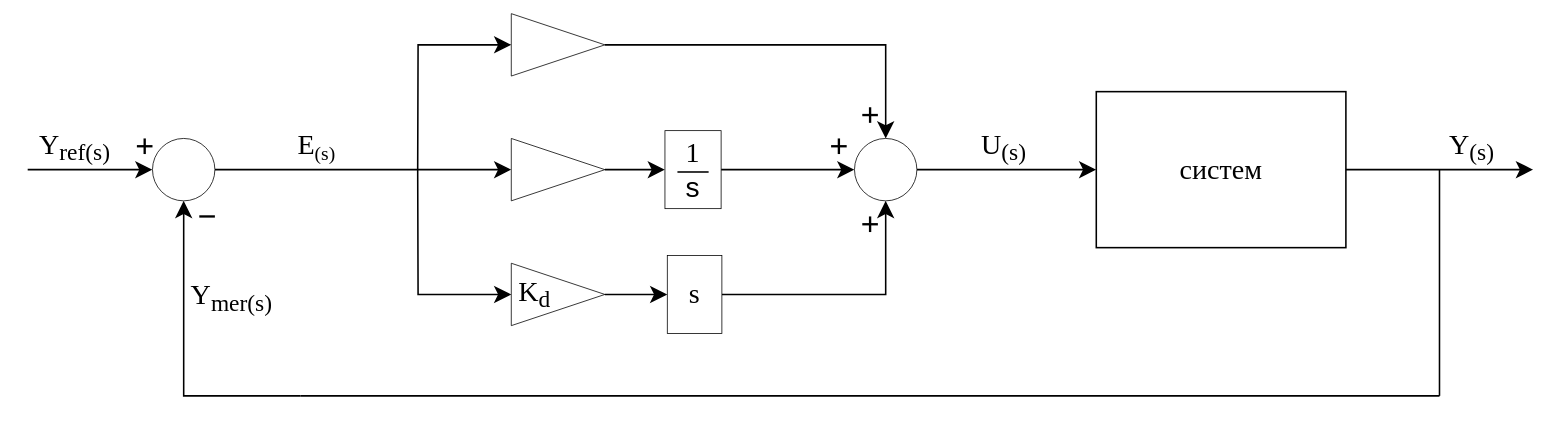
Some shapes in this 1561 by 424 pixel diagram are drawn without their labels. Each missing label, with the centre of its shape:
K i: pixel 558 169
K p: pixel 558 44
